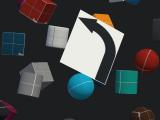Left: (60, 10, 124, 84)
